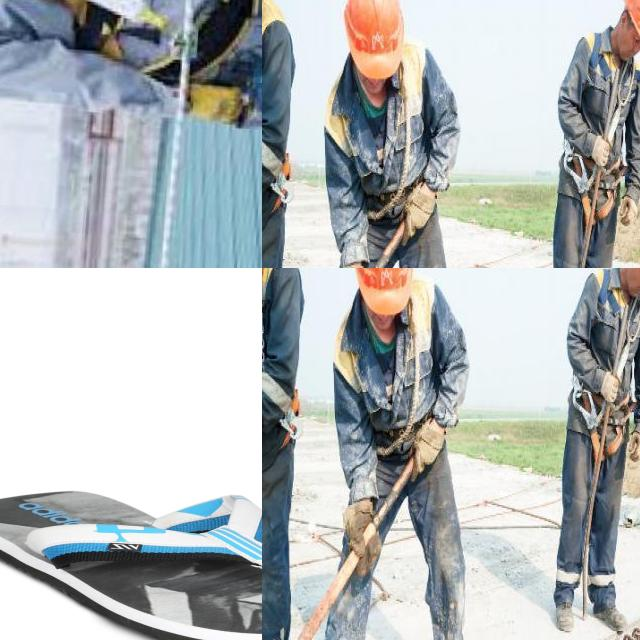Harness: (0, 0, 259, 92)
Sandals: (0, 488, 262, 640)
boots: (592, 584, 628, 640), (552, 593, 582, 639)
hand_glove: (390, 172, 440, 245), (400, 408, 450, 481), (339, 499, 386, 573), (584, 131, 615, 176), (593, 367, 624, 412), (612, 188, 640, 230), (621, 424, 640, 466)
head_helmet: (335, 0, 407, 81), (344, 268, 416, 317), (615, 0, 640, 43)
person: (312, 268, 481, 640), (303, 0, 472, 268), (538, 268, 640, 636), (529, 0, 640, 268)
